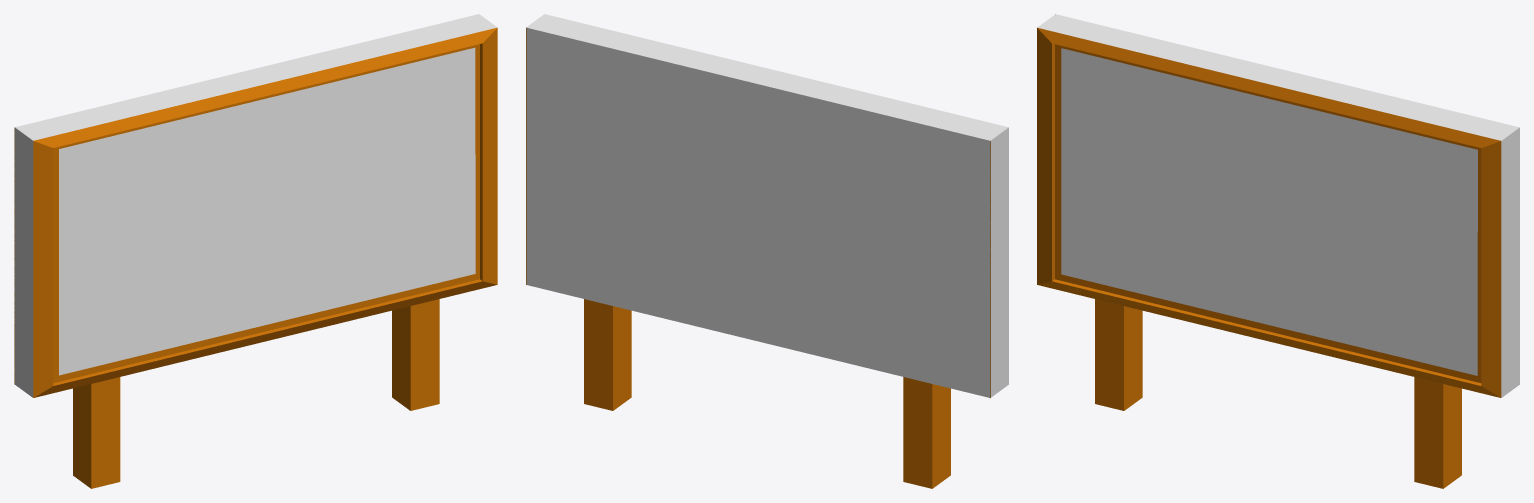
Rendered from popup.gltf.
The picture shows the model from 3 angles, left to right: view 1: azimuth 30°, elevation 25°; view 2: azimuth 150°, elevation 25°; view 3: azimuth 330°, elevation 25°; orthographic projection.
Visible parts, largest first — view 1: picture, body; view 2: body; view 3: picture, body.
Boxes of the visible parts, box(x1,y1,x2,y2) form: picture: box(59, 47, 475, 375); body: box(14, 14, 497, 488); body: box(526, 14, 1008, 488); picture: box(1061, 48, 1477, 375); body: box(1037, 14, 1519, 488).
Bounding box in the file's own units: 3.92 × 2.92 × 0.3073.
Materials: 2 (1 with a texture image).
